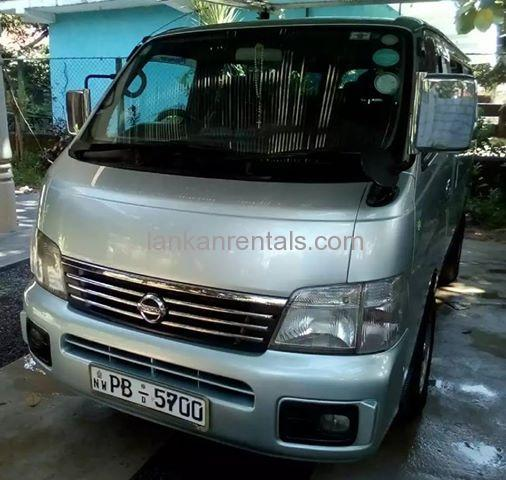van: (19, 18, 478, 461)
